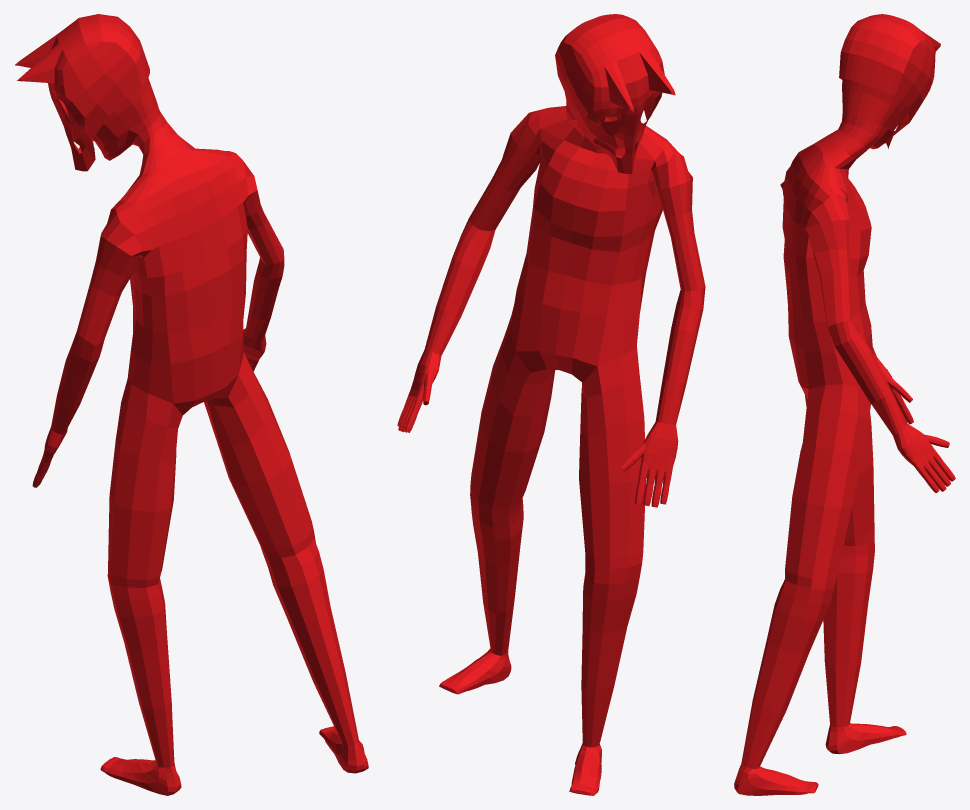
Rendered from reposoE_000235.obj.
The picture shows the model from 3 angles, left to right: view 1: azimuth 30°, elevation 25°; view 2: azimuth 150°, elevation 25°; view 3: azimuth 270°, elevation 25°; orthographic projection. The views are drawn at different scales.
Parts seen in each view (by area): view 1: Plane.002_Plane.001; view 2: Plane.002_Plane.001; view 3: Plane.002_Plane.001.
Boxes of the visible parts, bbox=[...] form: Plane.002_Plane.001: bbox=[15, 14, 368, 795]; Plane.002_Plane.001: bbox=[397, 14, 705, 795]; Plane.002_Plane.001: bbox=[734, 14, 955, 795].
Size of the model in its own units: 2.69 by 7.04 by 1.99.
